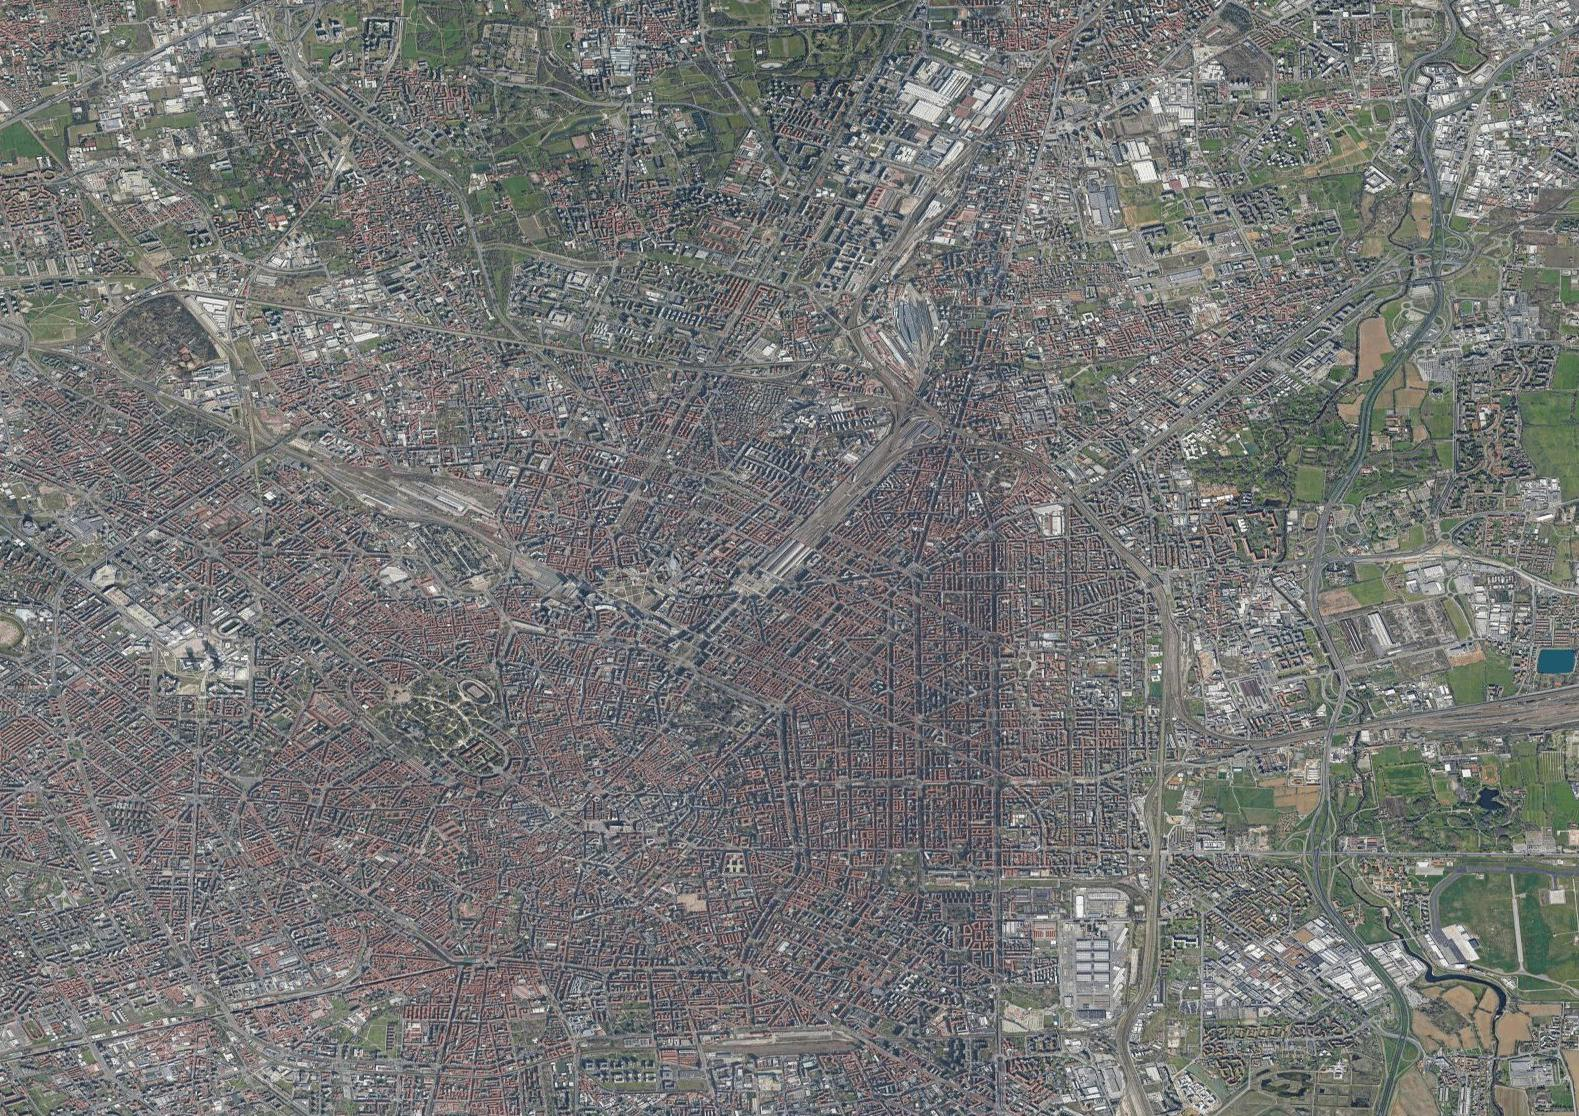train_station: (748, 525, 825, 595)
